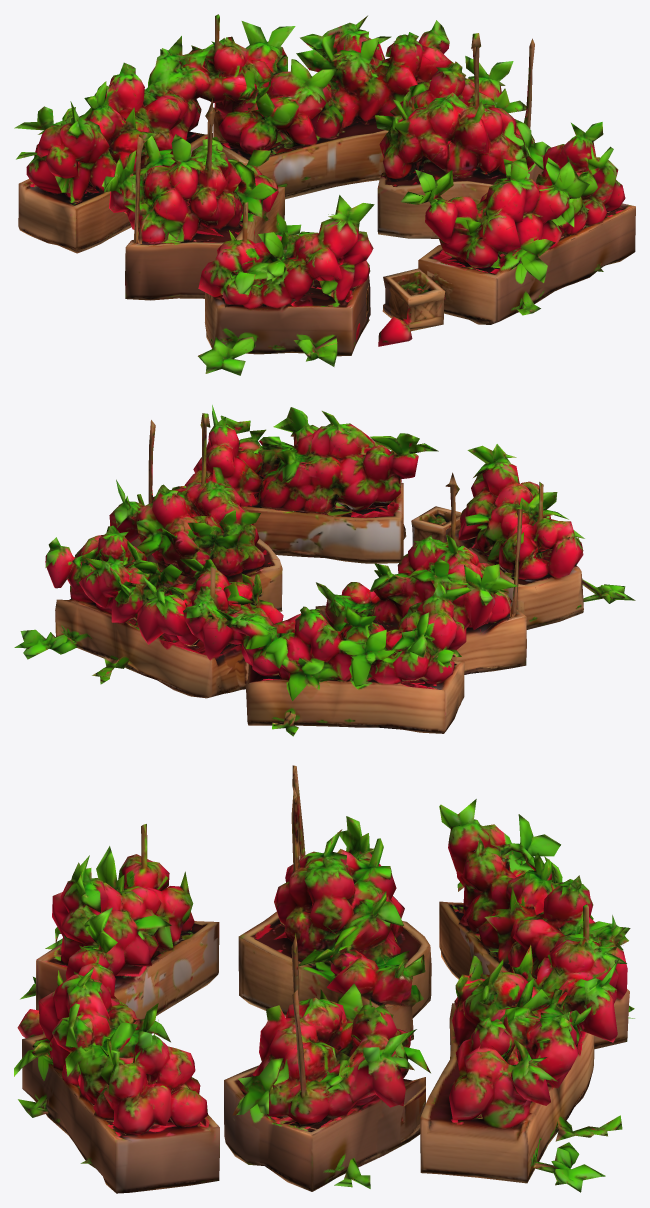
File: Meshy_AI_Strawberry_Harvest_0109070659_texture 1.fbx
The picture shows the model from 3 angles, top to bottom: view 1: azimuth 30°, elevation 25°; view 2: azimuth 150°, elevation 25°; view 3: azimuth 270°, elevation 25°; orthographic projection. The views are drawn at different scales.
Visible parts, largest first — view 1: Mesh1.0; view 2: Mesh1.0; view 3: Mesh1.0.
Boxes of the visible parts, left/top/right/bottom form: Mesh1.0: left=14, top=14, right=635, bottom=375; Mesh1.0: left=14, top=405, right=635, bottom=736; Mesh1.0: left=14, top=765, right=634, bottom=1193.
Size of the model in its own units: 184 by 72.5 by 188.
1 material, 1 textured.
